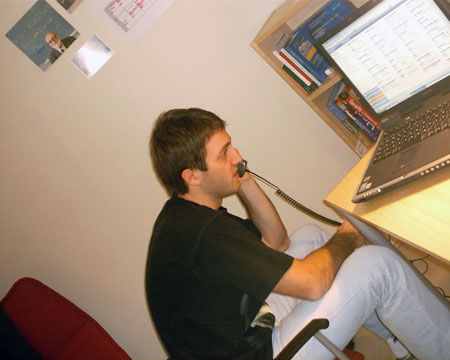person: (145, 108, 450, 360)
